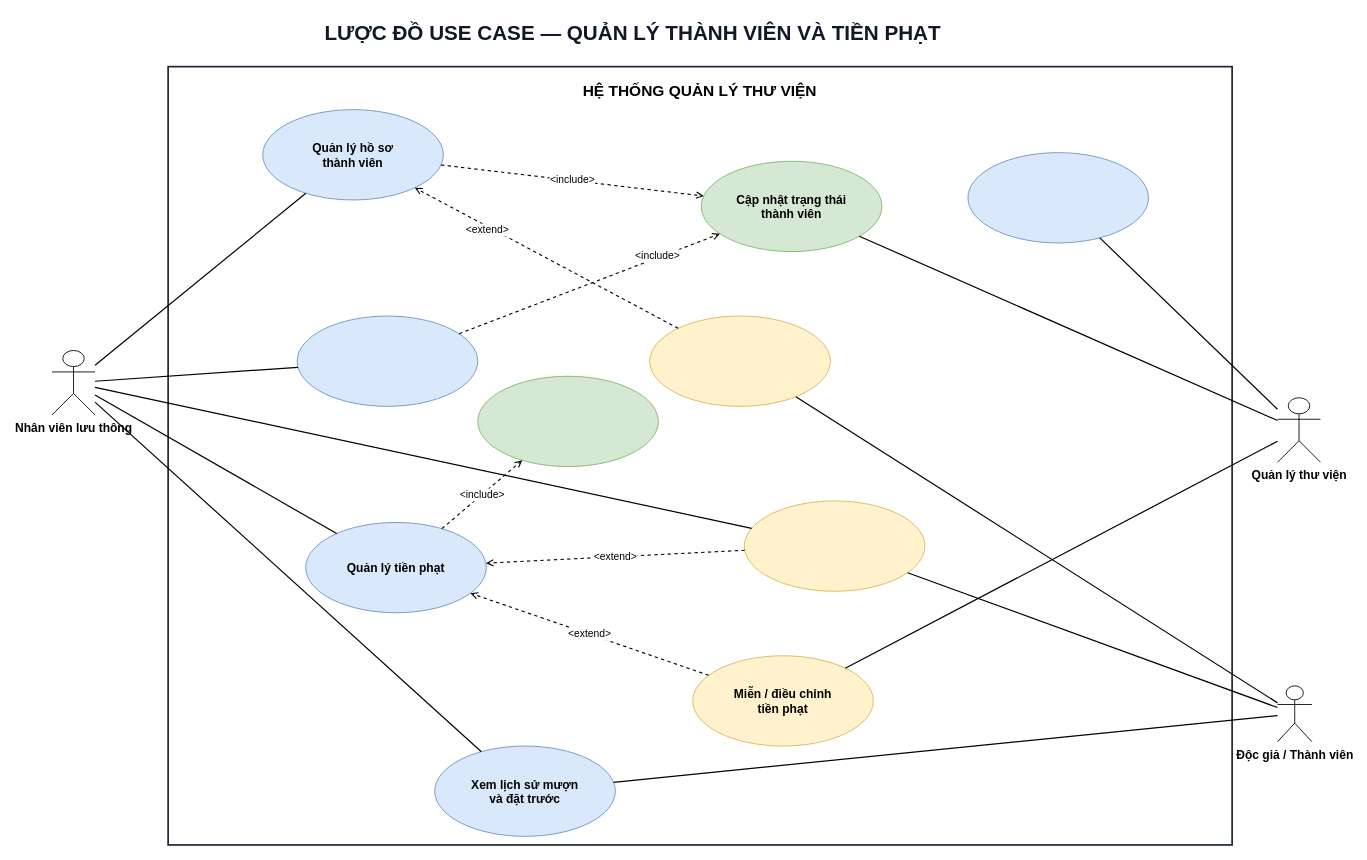
The diagram is 1367 pixels wide and 860 high, and some of its shapes have lost their labels. Each missing label, with the centre of its shape:
Cấp / gia hạn thẻ: (739,360)
Ghi nhận thanh toán: (834,545)
Quản lý hạn chế tài khoản: (387,360)
Thiết lập giới hạn mượn: (1058,197)
Tính tiền phạt: (567,421)
